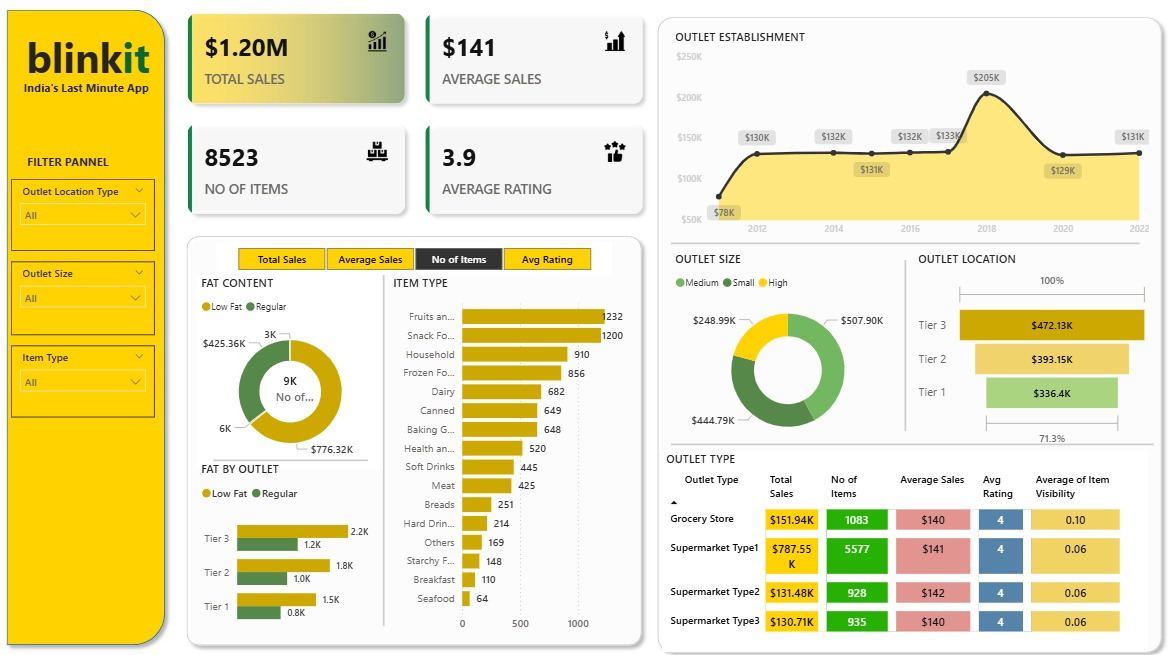

The page's visual inventory and layout, read from the dashboard file:
{"tool":"powerbi","page":{"name":"Page 1","canvas":[1400,800],"ordinal":0},"visuals":[{"type":"shape","box":[0,24.8,204.6,766.8],"z":0},{"type":"textbox","box":[252.2,576.7,355.5,198.4],"z":1000},{"type":"textbox","box":[14.5,51.7,190.2,163.3],"z":2000},{"type":"textbox","box":[0,111.6,184,43.4],"z":3000},{"type":"cardVisual","fields":{"Data":["BlinkIT Grocery Data.Total Sales","BlinkIT Grocery Data.Average Sales","BlinkIT Grocery Data.No of Items","BlinkIT Grocery Data.Avg Rating"]},"box":[204.6,20.7,570.5,270.8],"z":4000},{"type":"shape","box":[212.9,291.4,553.9,500.2],"z":5000},{"type":"donutChart","title":"FAT CONTENT","fields":{"Y":["BlinkIT Grocery Data.Total Sales","BlinkIT Grocery Data.No of Items","BlinkIT Grocery Data.Average Sales"],"Category":["BlinkIT Grocery Data.Item Fat Content"]},"box":[233.6,347.2,219.1,229.4],"z":6000},{"type":"slicer","fields":{"Values":["Metrics.Metrics"]},"box":[256.3,308,465.1,39.3],"z":7000},{"type":"cardVisual","fields":{"Data":["BlinkIT Grocery Data.No of Items"]},"box":[291.4,444.4,103.3,72.3],"z":8000},{"type":"clusteredBarChart","title":"FAT BY OUTLET","fields":{"Y":["BlinkIT Grocery Data.No of Items"],"Category":["BlinkIT Grocery Data.Outlet Location Type"],"Series":["BlinkIT Grocery Data.Item Fat Content"]},"box":[233.6,566.3,206.7,208.8],"z":9000},{"type":"shape","box":[361.7,347.2,181.9,413.4],"z":10000},{"type":"shape","box":[252.2,467.1,181.9,196.4],"z":11000},{"type":"barChart","title":"ITEM TYPE","fields":{"Y":["BlinkIT Grocery Data.No of Items"],"Category":["BlinkIT Grocery Data.Item Type"]},"box":[458.9,347.2,293.5,427.9],"z":12000},{"type":"shape","box":[766.8,33.1,611.8,766.8],"z":13000},{"type":"lineChart","title":"OUTLET ESTABLISHMENT","fields":{"Y":["BlinkIT Grocery Data.Total Sales"],"Category":["BlinkIT Grocery Data.Outlet Establishment Year"]},"box":[791.6,55.8,568.4,252.2],"z":14000},{"type":"shape","box":[791.6,103.3,551.9,413.4],"z":15000},{"type":"donutChart","title":"OUTLET SIZE","fields":{"Y":["BlinkIT Grocery Data.Total Sales"],"Category":["BlinkIT Grocery Data.Outlet Size"]},"box":[791.6,318.3,274.9,235.6],"z":16000},{"type":"shape","box":[976.5,328.2,181.2,201.3],"z":17000},{"type":"funnel","title":"OUTLET LOCATION","fields":{"Y":["Sum(BlinkIT Grocery Data.Sales)"],"Category":["BlinkIT Grocery Data.Outlet Location Type"]},"box":[1078.9,318.3,281.1,235.6],"z":18000},{"type":"shape","box":[791.6,516.7,568.4,59.9],"z":19000},{"type":"pivotTable","title":"OUTLET TYPE","fields":{"Rows":["BlinkIT Grocery Data.Outlet Type"],"Values":["BlinkIT Grocery Data.Total Sales","BlinkIT Grocery Data.No of Items","BlinkIT Grocery Data.Average Sales","BlinkIT Grocery Data.Avg Rating","Avg(BlinkIT Grocery Data.Item Visibility)"]},"box":[781.2,553.7,571.8,237.6],"z":20000},{"type":"slicer","fields":{"Values":["BlinkIT Grocery Data.Outlet Location Type"]},"box":[14.1,233.6,169.1,84.6],"z":21000},{"type":"slicer","fields":{"Values":["BlinkIT Grocery Data.Outlet Size"]},"box":[14.1,330.2,169.1,86.6],"z":22000},{"type":"slicer","fields":{"Values":["BlinkIT Grocery Data.Item Type"]},"box":[14.1,428.9,169.1,84.6],"z":23000},{"type":"textbox","box":[28.2,197.3,155,203.4],"z":24000}]}

Visuals, with their boxes in screenshot pixels (x1, y1, x2, y2), scaled from the page's 1400x800 canvas onto the 1168x655 screenshot:
shape: left=0, top=20, right=171, bottom=648
textbox: left=210, top=472, right=507, bottom=635
textbox: left=12, top=42, right=171, bottom=176
textbox: left=0, top=91, right=154, bottom=127
cardVisual - BlinkIT Grocery Data.Total Sales x BlinkIT Grocery Data.Average Sales: left=171, top=17, right=647, bottom=239
shape: left=178, top=239, right=640, bottom=648
"FAT CONTENT" donutChart: left=195, top=284, right=378, bottom=472
slicer - Metrics.Metrics: left=214, top=252, right=602, bottom=284
cardVisual - BlinkIT Grocery Data.No of Items: left=243, top=364, right=329, bottom=423
"FAT BY OUTLET" clusteredBarChart: left=195, top=464, right=367, bottom=635
shape: left=302, top=284, right=454, bottom=623
shape: left=210, top=382, right=362, bottom=543
"ITEM TYPE" barChart: left=383, top=284, right=628, bottom=635
shape: left=640, top=27, right=1150, bottom=654
"OUTLET ESTABLISHMENT" lineChart: left=660, top=46, right=1135, bottom=252
shape: left=660, top=85, right=1121, bottom=423
"OUTLET SIZE" donutChart: left=660, top=261, right=890, bottom=454
shape: left=815, top=269, right=966, bottom=434
"OUTLET LOCATION" funnel: left=900, top=261, right=1135, bottom=454
shape: left=660, top=423, right=1135, bottom=472
"OUTLET TYPE" pivotTable: left=652, top=453, right=1129, bottom=648
slicer - BlinkIT Grocery Data.Outlet Location Type: left=12, top=191, right=153, bottom=261
slicer - BlinkIT Grocery Data.Outlet Size: left=12, top=270, right=153, bottom=341
slicer - BlinkIT Grocery Data.Item Type: left=12, top=351, right=153, bottom=420
textbox: left=24, top=162, right=153, bottom=328
